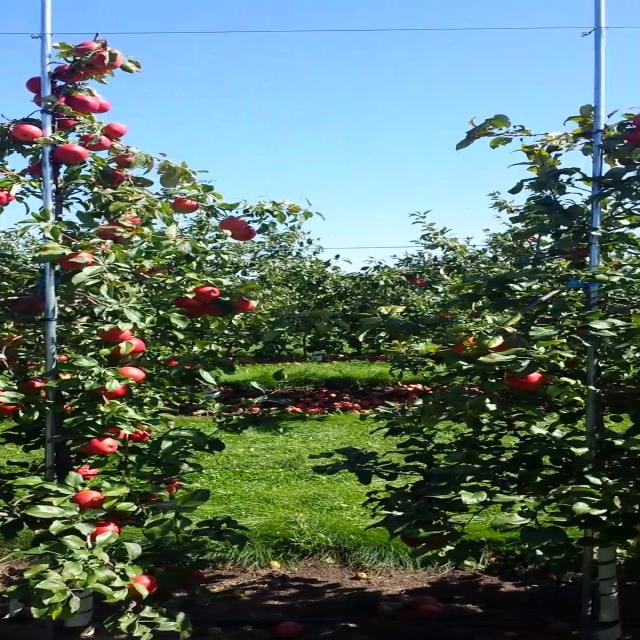apple: (501, 369, 551, 395), (398, 528, 449, 550), (84, 521, 126, 543), (124, 570, 159, 596), (72, 487, 106, 511), (52, 144, 88, 166), (65, 94, 99, 116), (10, 124, 44, 146), (452, 334, 486, 356), (489, 332, 523, 354), (77, 132, 114, 152), (111, 336, 147, 356), (90, 48, 122, 70), (88, 436, 122, 456), (69, 463, 105, 481), (52, 63, 84, 83), (175, 569, 206, 589), (114, 365, 148, 383), (74, 41, 106, 59), (170, 196, 201, 214), (100, 384, 134, 400), (26, 76, 56, 94), (98, 121, 128, 139), (192, 284, 223, 301), (99, 327, 134, 342), (204, 300, 232, 318), (172, 295, 205, 310), (57, 114, 84, 132), (229, 224, 256, 242), (79, 60, 109, 76), (92, 225, 122, 241), (101, 422, 127, 440), (125, 426, 151, 444), (219, 216, 248, 232), (136, 266, 168, 280), (16, 298, 46, 312), (91, 95, 113, 113), (569, 246, 593, 262), (231, 297, 256, 312), (105, 169, 128, 185), (0, 399, 23, 415), (57, 252, 77, 270), (73, 252, 95, 268), (137, 488, 162, 501), (115, 153, 138, 167), (120, 212, 143, 226), (623, 127, 639, 147), (106, 509, 132, 521), (52, 90, 70, 106), (25, 162, 43, 178), (27, 376, 46, 390), (96, 176, 118, 188), (108, 216, 126, 228), (115, 236, 135, 246), (161, 484, 177, 496), (164, 357, 183, 367), (0, 189, 15, 201), (185, 308, 203, 318), (170, 479, 186, 489), (631, 110, 639, 130), (52, 374, 74, 381), (59, 403, 76, 412), (56, 353, 70, 363), (33, 94, 41, 108), (79, 442, 87, 454), (1, 202, 7, 204)
